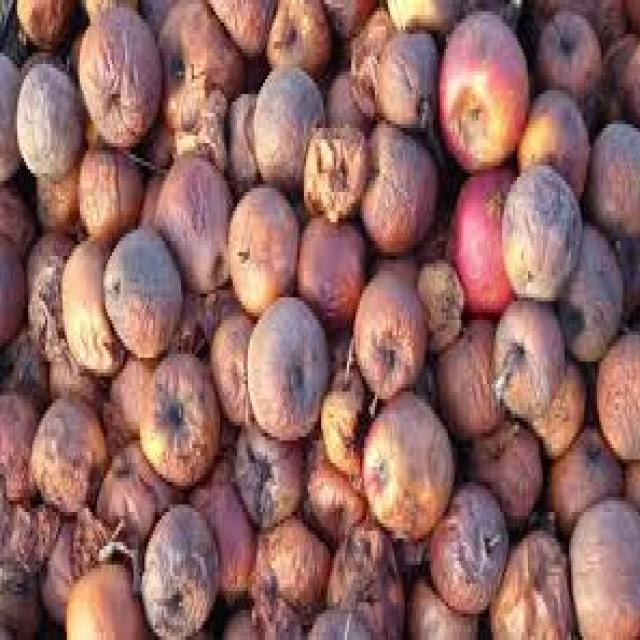organic waste: (0, 0, 638, 636), (433, 8, 526, 166), (360, 384, 452, 538), (243, 290, 329, 437), (74, 0, 160, 143), (155, 0, 248, 128), (136, 350, 218, 490), (444, 166, 519, 316), (246, 508, 332, 636), (99, 218, 179, 354), (427, 478, 506, 614), (244, 60, 323, 196), (358, 113, 437, 248), (138, 501, 215, 636), (427, 312, 504, 444), (151, 154, 228, 286), (567, 493, 638, 636), (58, 233, 125, 384), (353, 264, 427, 399), (487, 527, 578, 636), (323, 516, 405, 636), (28, 392, 108, 512), (538, 422, 620, 538), (90, 440, 179, 546), (188, 456, 252, 602), (556, 215, 621, 358), (226, 180, 298, 308), (231, 410, 308, 527), (515, 79, 588, 200), (461, 411, 539, 524), (532, 3, 601, 116), (295, 214, 364, 324), (62, 557, 153, 636), (15, 60, 80, 170), (373, 22, 435, 136), (302, 433, 364, 542), (76, 136, 142, 237), (582, 121, 638, 237), (298, 120, 367, 214), (0, 478, 56, 591), (319, 354, 371, 470), (592, 324, 638, 452), (32, 516, 88, 621), (347, 4, 392, 120), (403, 568, 478, 636), (43, 335, 104, 418), (209, 305, 252, 422), (263, 0, 330, 75), (414, 256, 463, 350), (101, 358, 153, 444), (366, 211, 444, 267), (205, 0, 276, 60), (0, 388, 39, 497), (220, 86, 261, 185), (24, 264, 64, 365), (172, 87, 228, 158), (21, 226, 76, 297), (601, 30, 638, 124), (323, 64, 369, 139), (67, 500, 118, 564), (30, 158, 78, 226), (179, 290, 233, 350), (0, 339, 47, 403), (610, 226, 638, 331), (93, 527, 142, 584), (0, 234, 24, 346), (302, 602, 379, 636), (0, 176, 34, 252), (12, 0, 75, 41), (384, 0, 459, 34), (317, 0, 381, 38), (0, 49, 19, 177), (17, 42, 69, 86), (319, 320, 353, 376), (138, 162, 166, 226), (0, 591, 39, 636), (218, 606, 269, 636), (73, 106, 97, 154), (392, 534, 425, 568), (618, 452, 638, 504)
